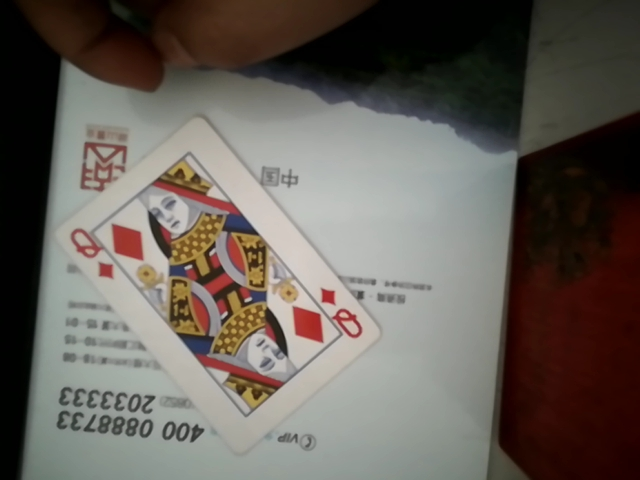fk q: (48, 109, 393, 439)
